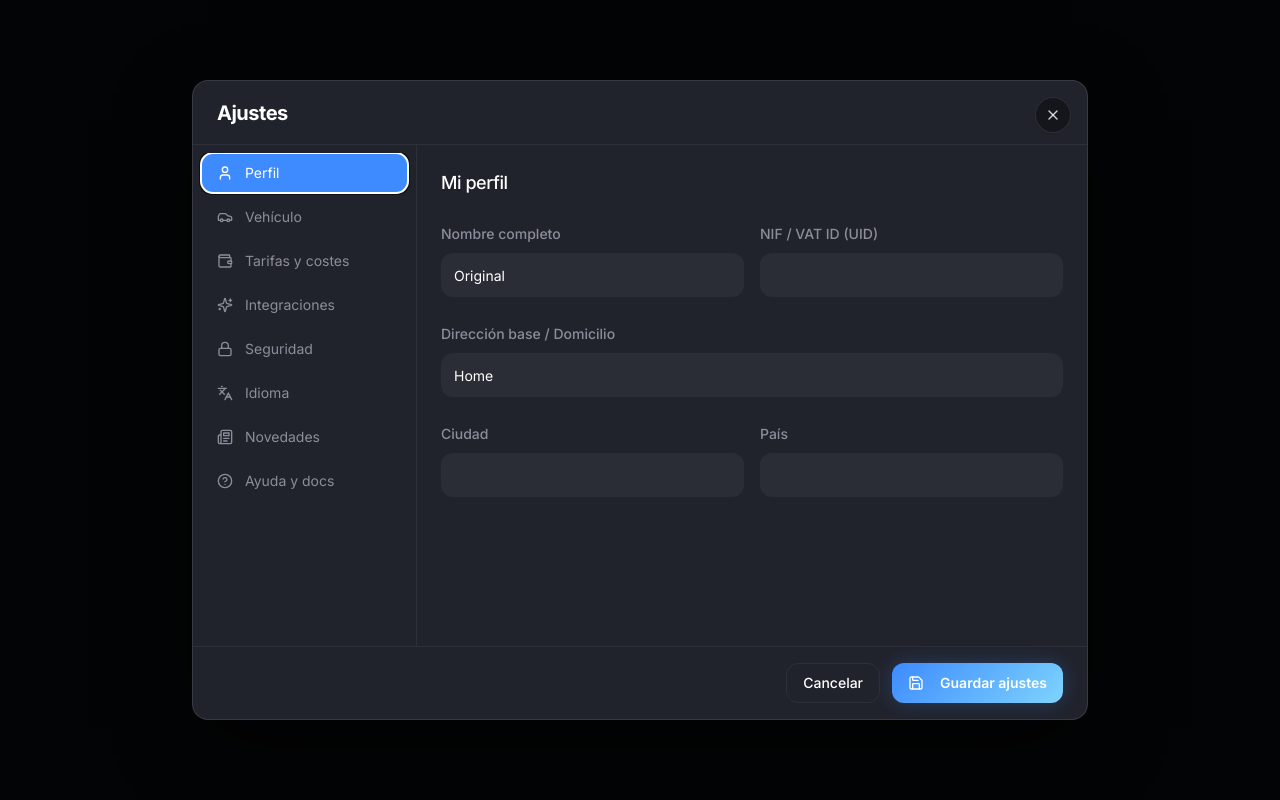
Scenario: keeps settings sections and dialog controls in es
Expected: the button named "Cerrar" is shown, [1035,97,1071,133]
Click the button "Seguridad".
click(304, 349)  # box [201,329,408,369]
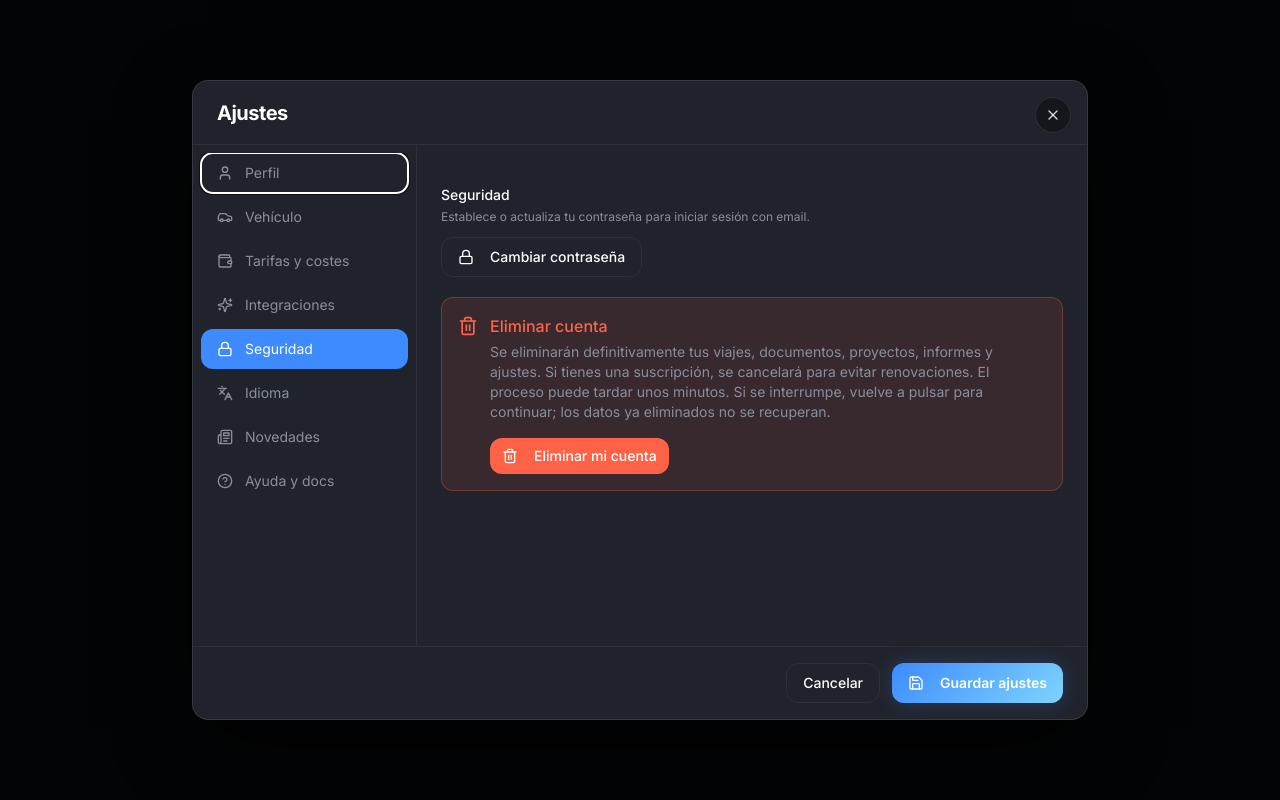
Now the button "Cambiar contraseña" is shown, box [441,237,642,277]
Click the button "Integraciones".
click(304, 305)  # box [201,285,408,325]
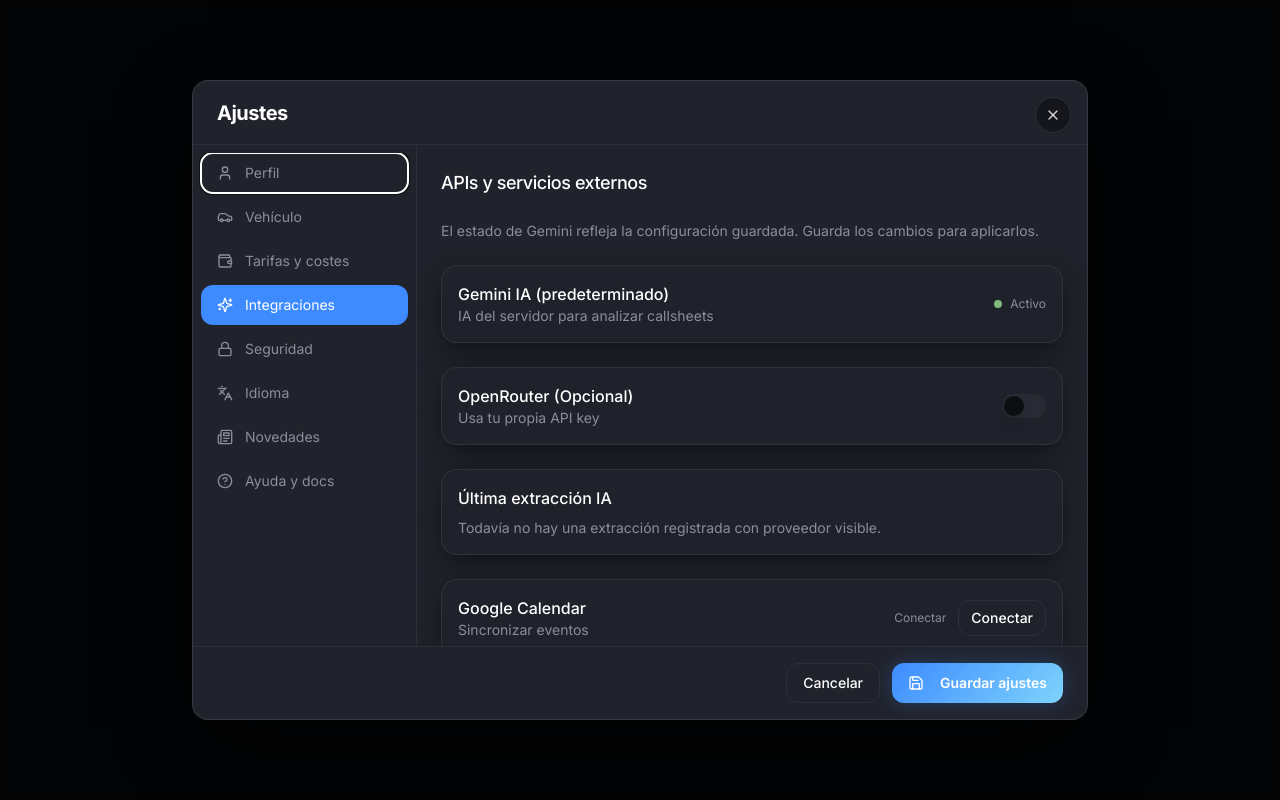
Now the heading "Gemini IA (predeterminado)" is shown, box [458,284,669,304]
